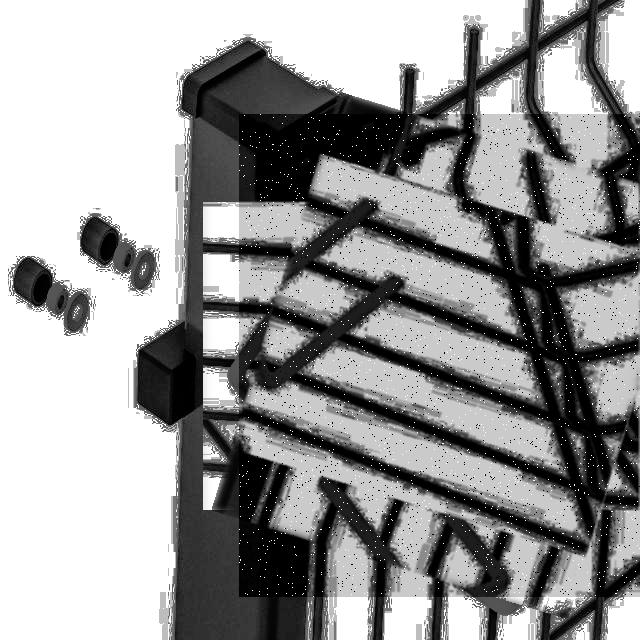fences: (239, 114, 640, 597)
